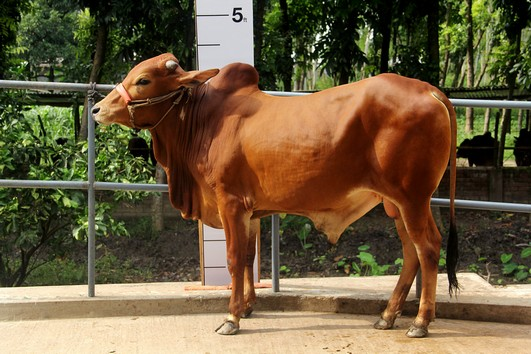cow: (87, 45, 465, 345)
